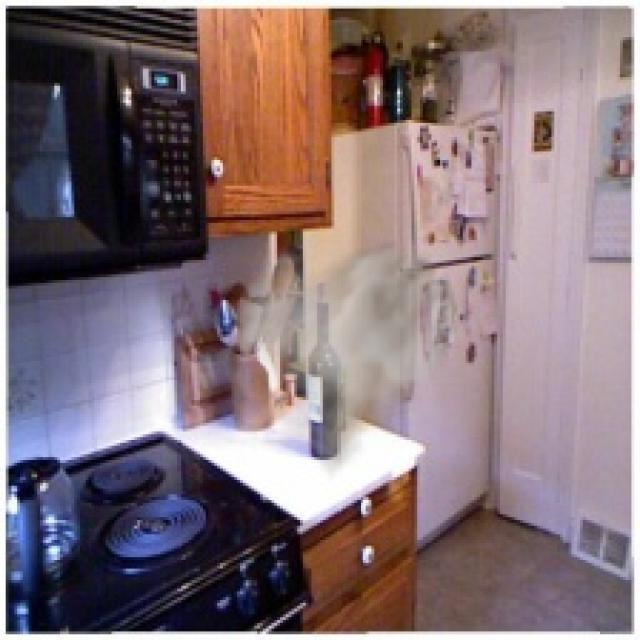Smoke: (223, 217, 480, 483)
